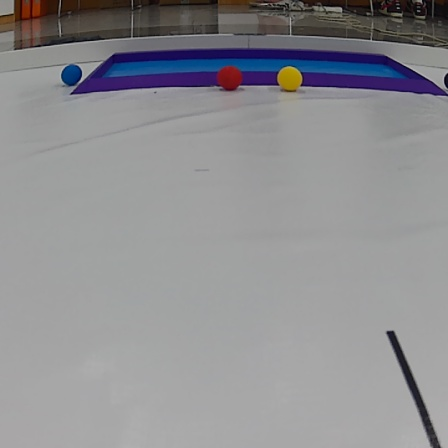black: (445, 67, 448, 93)
blue: (58, 66, 85, 85)
blue_aim: (80, 49, 448, 98)
red: (217, 63, 243, 89)
yellow: (280, 66, 304, 90)
